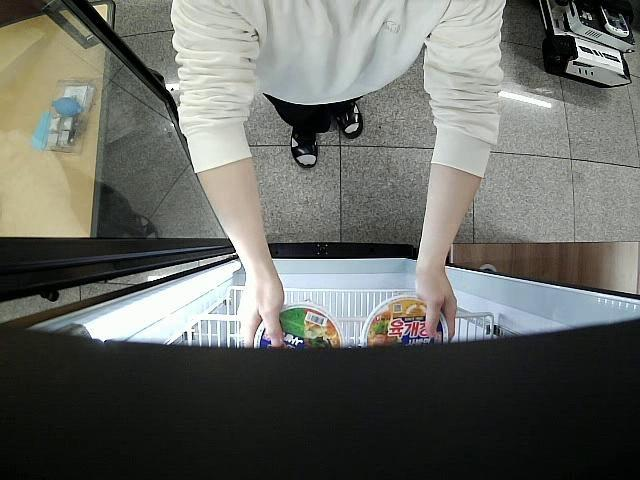09_yukGaeJang: (360, 294, 450, 345), (254, 303, 340, 347)
